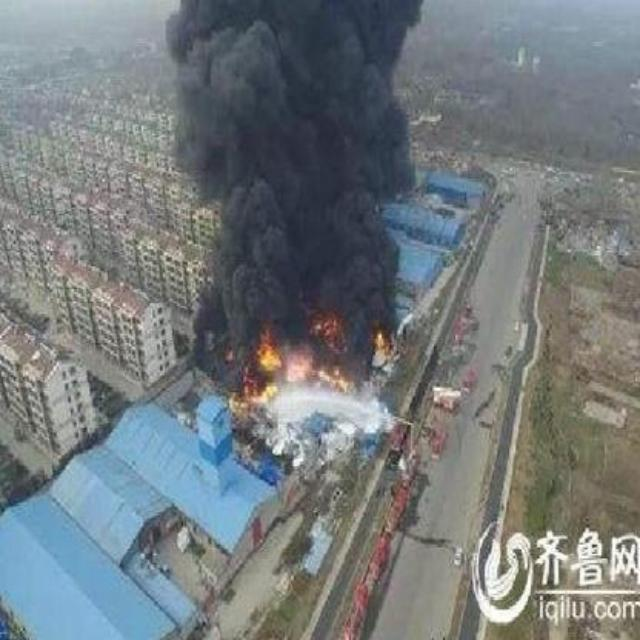Fire: (250, 314, 398, 394)
Smoke: (180, 3, 418, 319), (196, 318, 248, 414)
